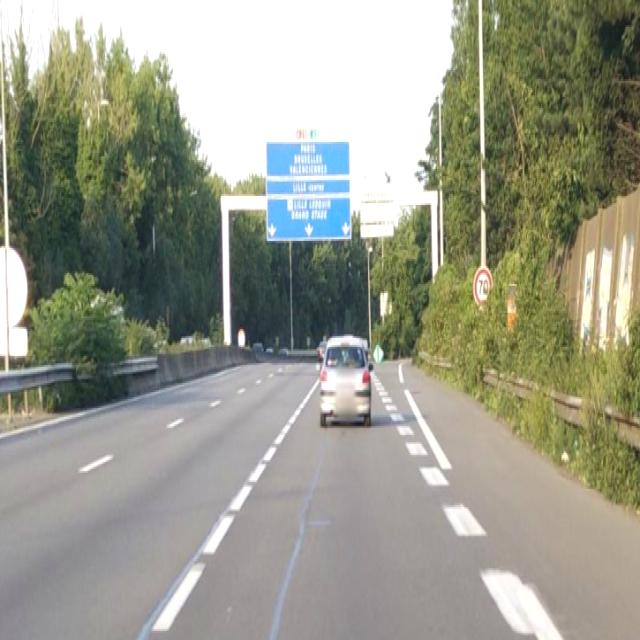speed_70: (474, 268, 493, 303)
